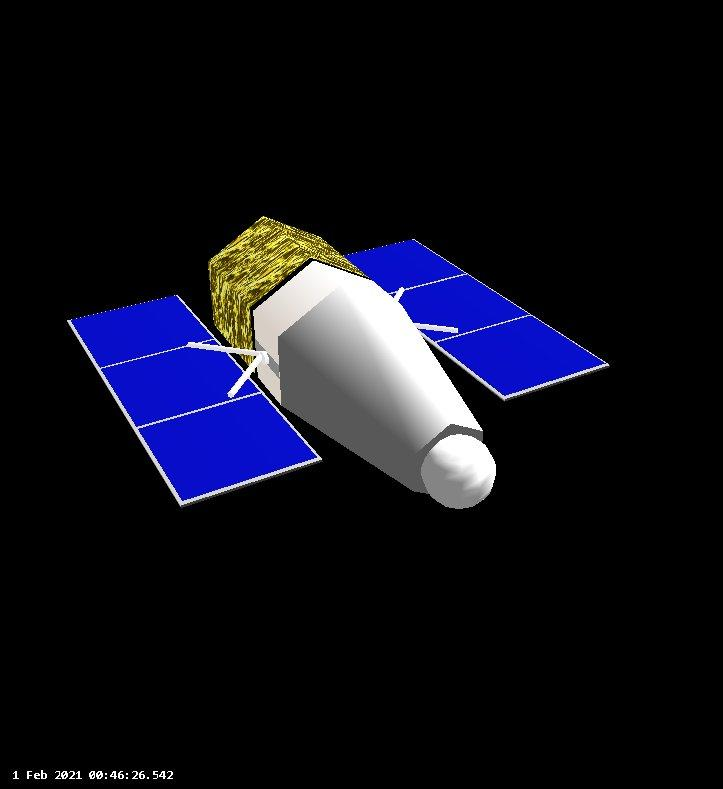body: (204, 210, 498, 513)
solar: (65, 292, 328, 510), (327, 234, 611, 402)
